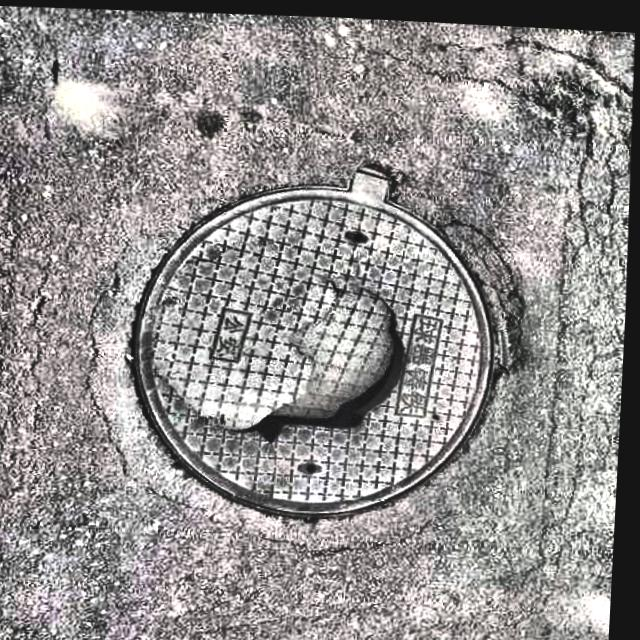Open Manhole: (130, 162, 510, 515)
